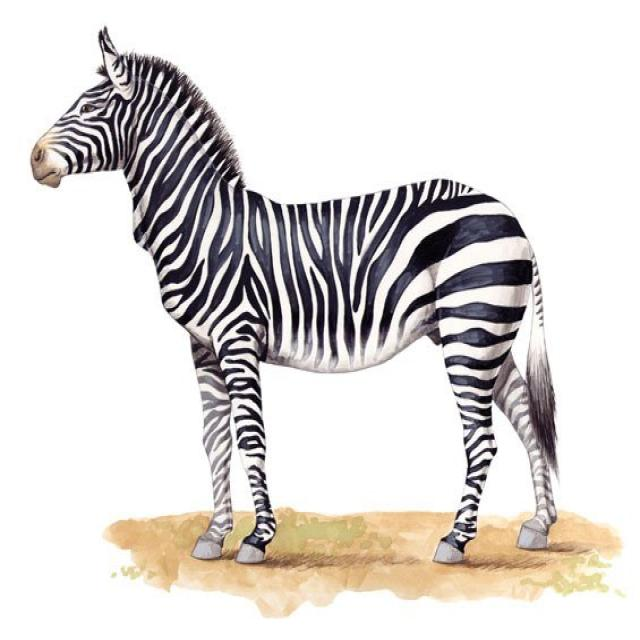Zebra: (31, 31, 574, 555)
